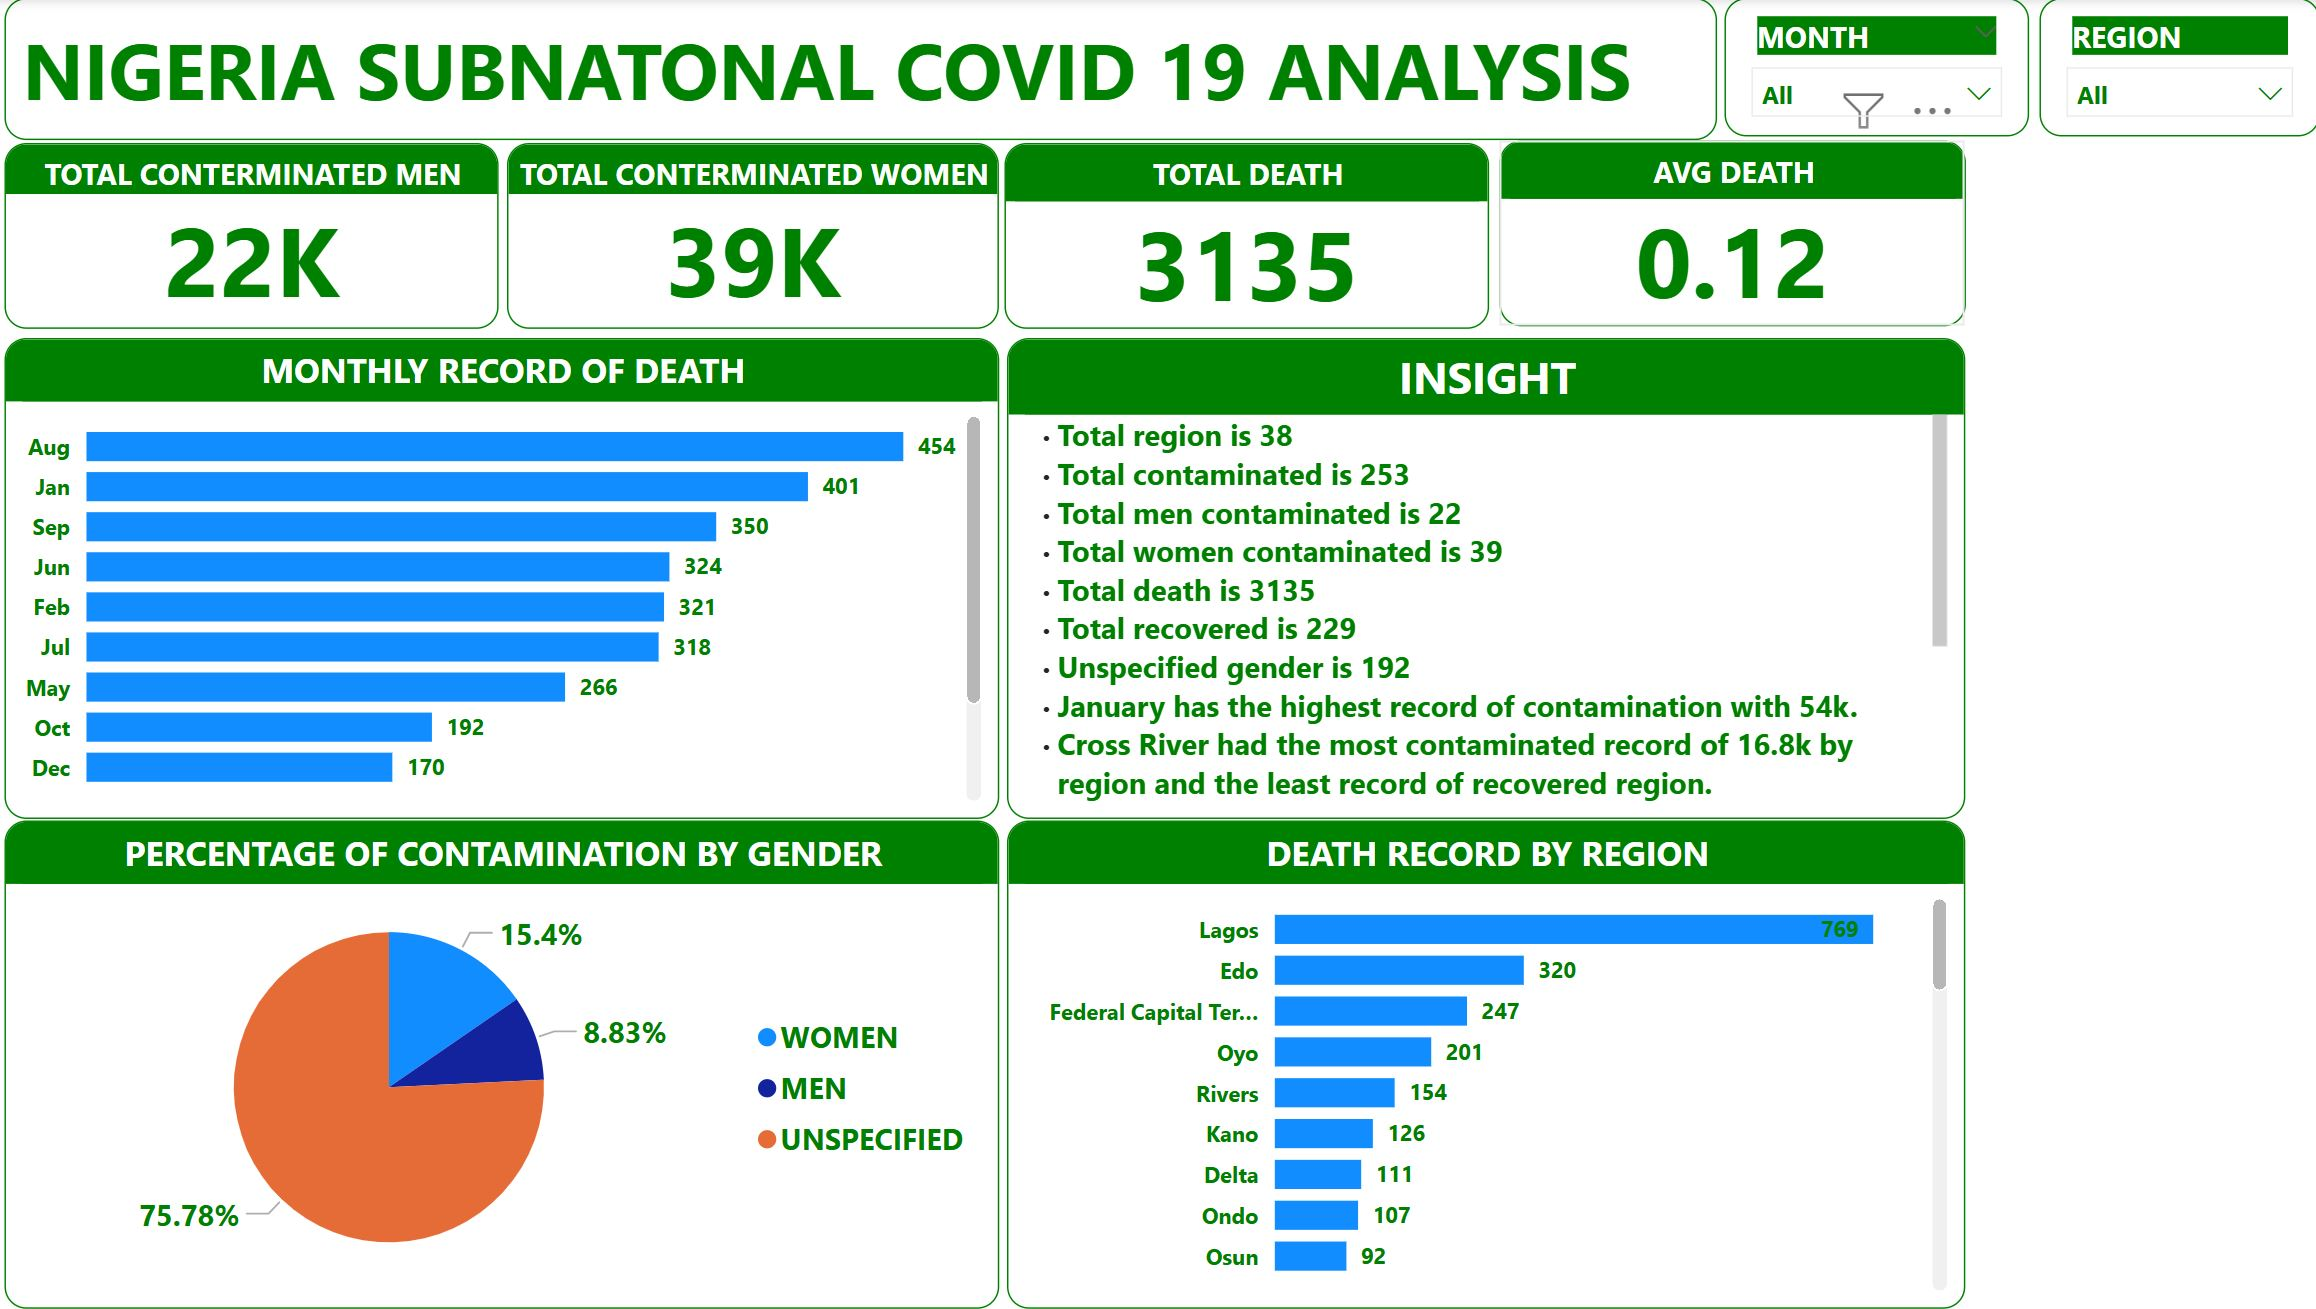

This screenshot's page, from the dashboard's own definition file:
{"tool":"powerbi","page":{"name":"Page 2","canvas":[1280,720],"ordinal":1},"visuals":[{"type":"textbox","box":[9.6,0,940,78],"z":0},{"type":"card","title":"TOTAL CONTERMINATED WOMEN","fields":{"Values":["nga_subnational_covid19_hera.WOMAN CONTAMINATED"]},"box":[285,80,270,102],"z":1000},{"type":"card","title":"TOTAL CONTERMINATED MEN","fields":{"Values":["nga_subnational_covid19_hera.MAN CONTAMINATED"]},"box":[10,80,271.2,102],"z":2000},{"type":"pieChart","title":"PERCENTAGE OF CONTAMINATION BY GENDER","fields":{"Y":["nga_subnational_covid19_hera.WOMAN CONTAMINATED","nga_subnational_covid19_hera.MAN CONTAMINATED","nga_subnational_covid19_hera.CONTAMINATED (GENDER UNSPECIFIED)"]},"box":[10,452,546,268],"z":3000},{"type":"card","title":"TOTAL DEATH","fields":{"Values":["nga_subnational_covid19_hera.DEATH"]},"box":[559,80,266,102],"z":4000},{"type":"barChart","title":"MONTHLY RECORD OF DEATH","fields":{"Category":["nga_subnational_covid19_hera.MONTH"],"Y":["nga_subnational_covid19_hera.DEATH"]},"box":[10,186,546,264],"z":5000},{"type":"barChart","title":"DEATH RECORD BY REGION","fields":{"Category":["nga_subnational_covid19_hera.REGION"],"Y":["nga_subnational_covid19_hera.DEATH"]},"box":[560,452,526,268],"z":6000},{"type":"card","title":"AVG DEATH","fields":{"Values":["nga_subnational_covid19_hera.DEATH"]},"box":[830,78,256,102],"z":7000},{"type":"slicer","fields":{"Values":["nga_subnational_covid19_hera.REGION"]},"box":[1126,0,154,76],"z":8000},{"type":"slicer","fields":{"Values":["nga_subnational_covid19_hera.MONTH"]},"box":[954,0,167,76],"z":9000},{"type":"textbox","title":"INSIGHT","box":[560,186,526,264],"z":10000}]}

Visuals, with their boxes in screenshot pixels (x1, y1, x2, y2), scaled from the page's 1280x720 canvas onto the 2316x1309 screenshot:
textbox: locate(17, 0, 1718, 142)
"TOTAL CONTERMINATED WOMEN" card: locate(516, 145, 1004, 331)
"TOTAL CONTERMINATED MEN" card: locate(18, 145, 509, 331)
"PERCENTAGE OF CONTAMINATION BY GENDER" pieChart: locate(18, 822, 1006, 1308)
"TOTAL DEATH" card: locate(1011, 145, 1493, 331)
"MONTHLY RECORD OF DEATH" barChart: locate(18, 338, 1006, 818)
"DEATH RECORD BY REGION" barChart: locate(1013, 822, 1965, 1308)
"AVG DEATH" card: locate(1502, 142, 1965, 327)
slicer - nga_subnational_covid19_hera.REGION: locate(2037, 0, 2315, 138)
slicer - nga_subnational_covid19_hera.MONTH: locate(1726, 0, 2028, 138)
"INSIGHT" textbox: locate(1013, 338, 1965, 818)
